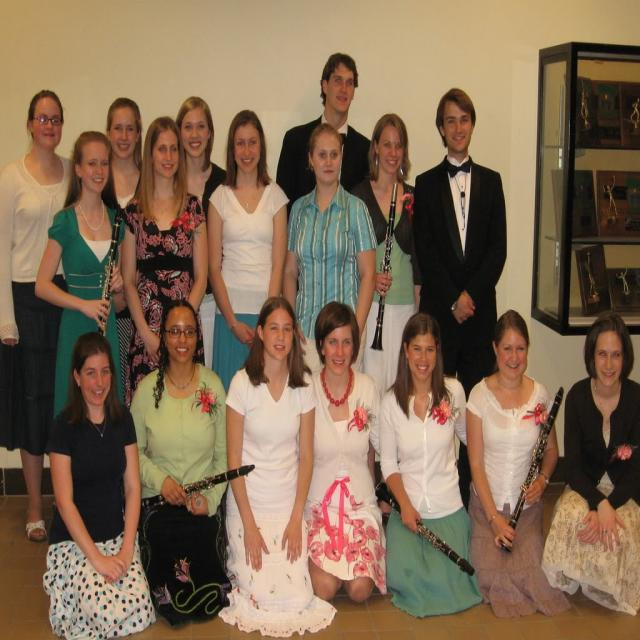clarinet: (498, 387, 565, 552), (373, 482, 478, 580), (121, 462, 255, 518), (368, 180, 401, 353), (97, 203, 125, 342)
